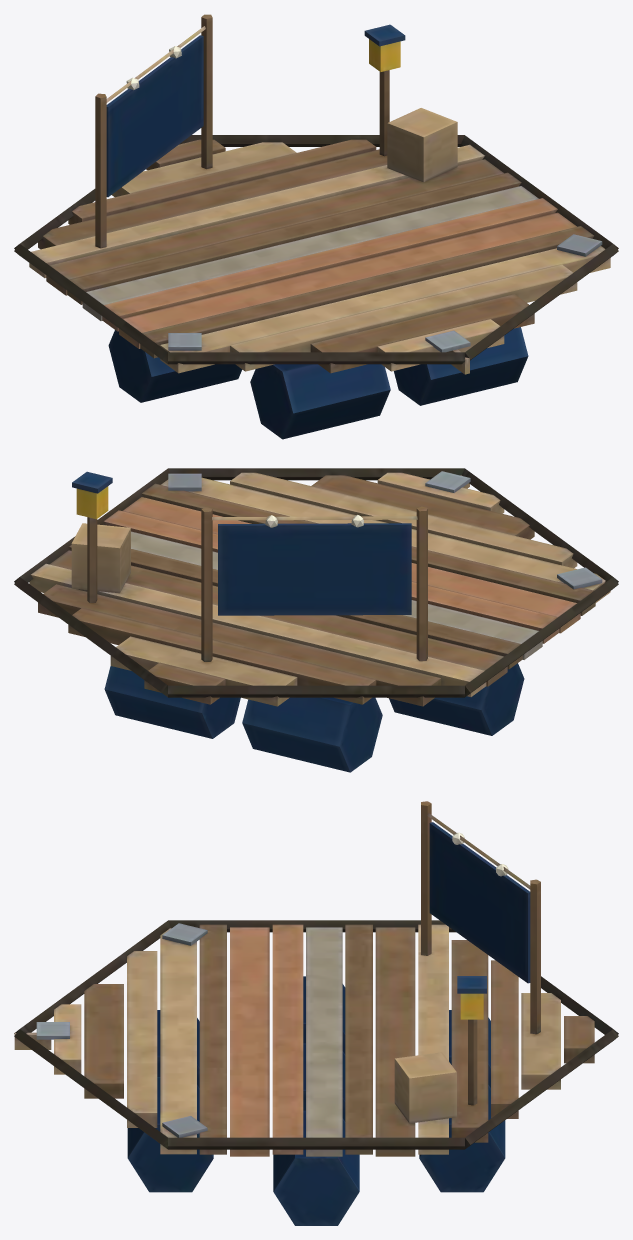
The model's file is raft-b-age10-lite.glb.
3 renders of one model, top to bottom at view 1: azimuth 30°, elevation 25°; view 2: azimuth 150°, elevation 25°; view 3: azimuth 270°, elevation 25°, orthographic.
Visible parts, largest first — view 1: raft-b-age10-lite; view 2: raft-b-age10-lite; view 3: raft-b-age10-lite.
Part boxes in pixels (x1,y1,x2,y2): raft-b-age10-lite: [14, 14, 618, 439]; raft-b-age10-lite: [14, 468, 618, 772]; raft-b-age10-lite: [14, 801, 618, 1225].
Size of the model in its own units: 1.59 by 0.8426 by 1.83.
Materials: 1 (1 with a texture image).
